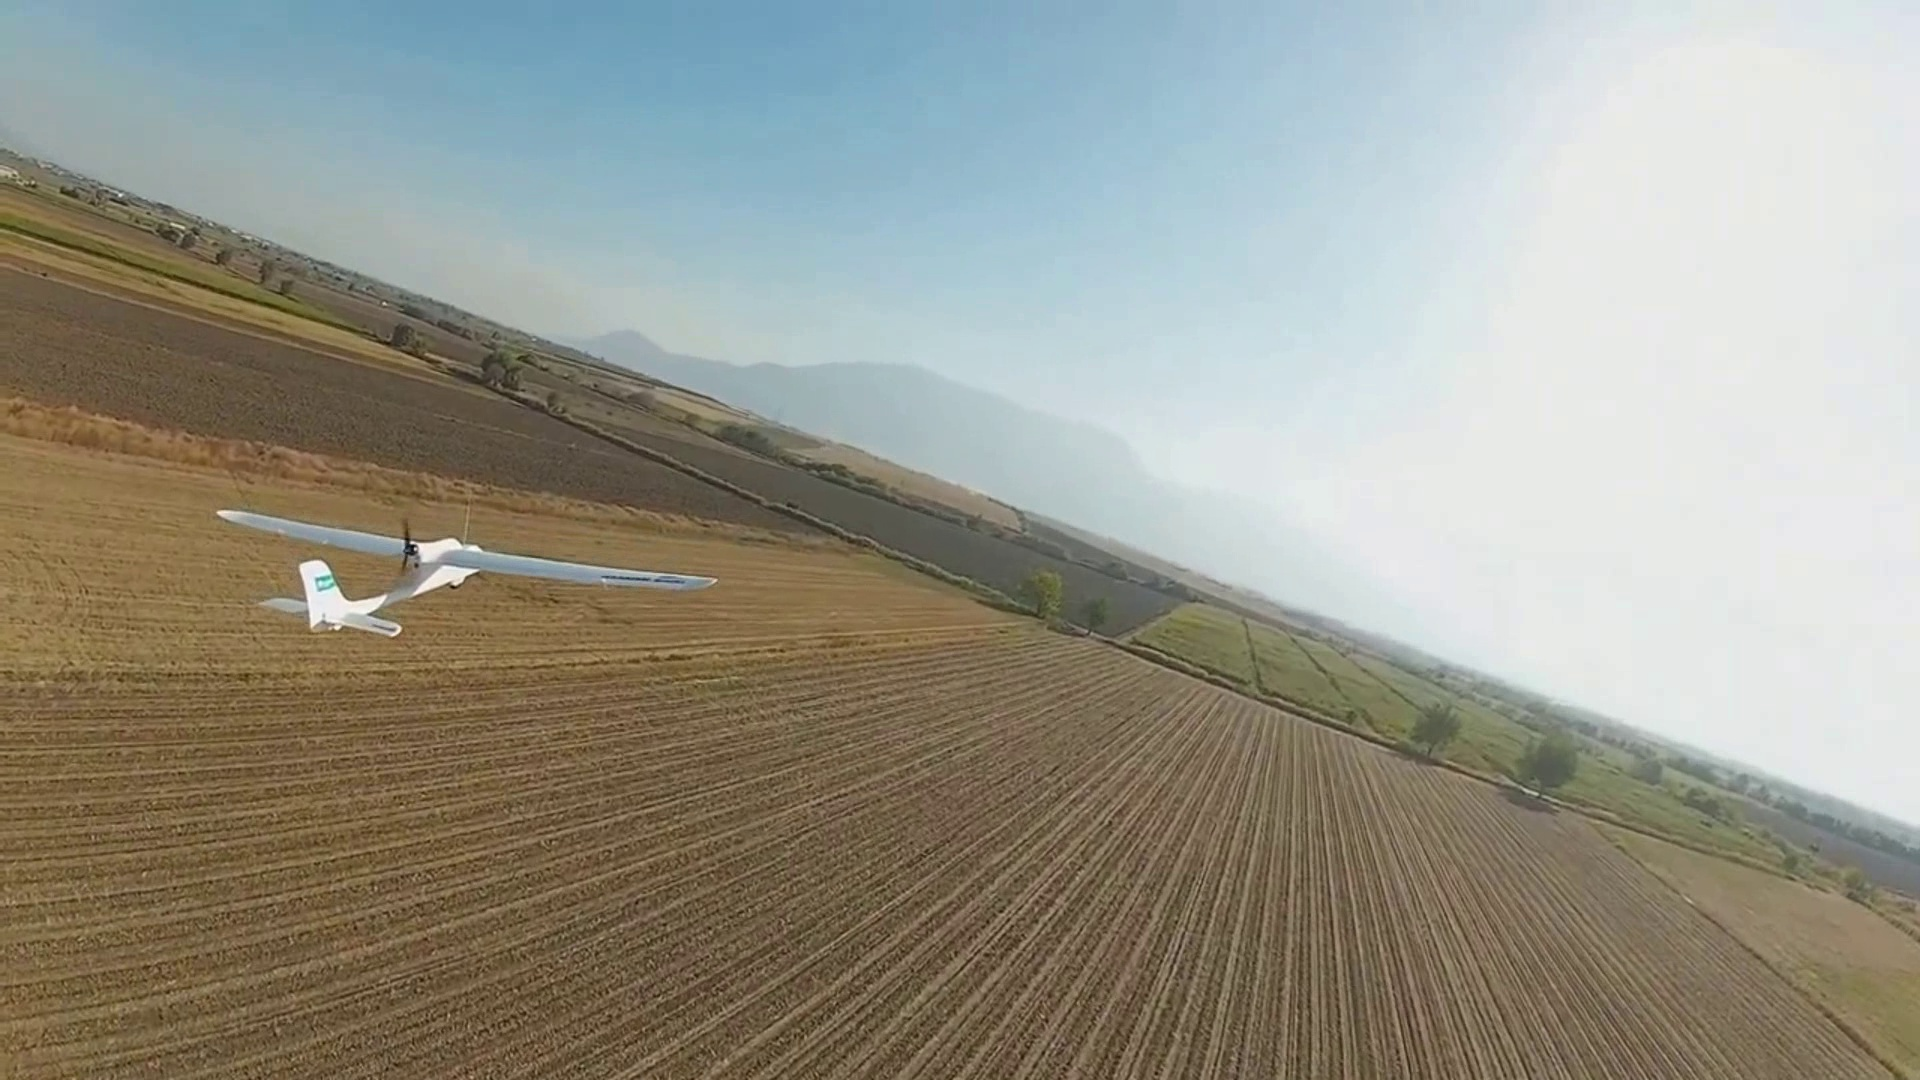airplane: (26, 208, 1917, 920), (214, 502, 719, 640)
